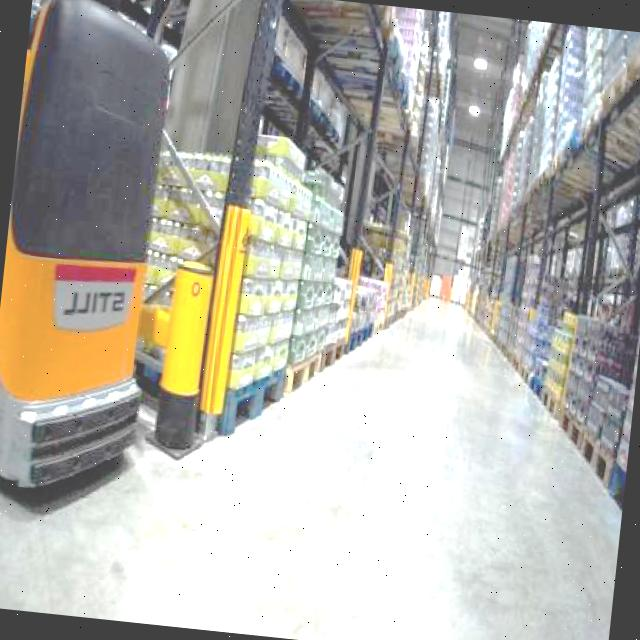ground: (0, 248, 640, 640)
pallet: (116, 0, 465, 532), (126, 119, 371, 463), (441, 278, 640, 554), (470, 17, 640, 269)
